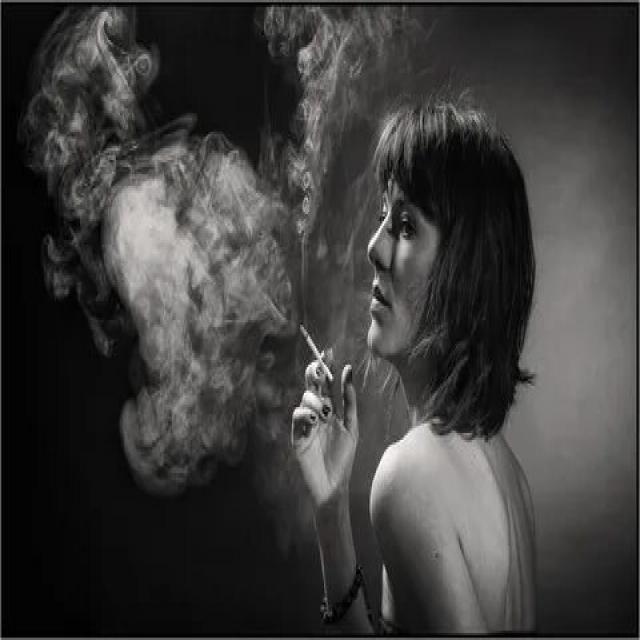cigarette: (296, 318, 339, 390)
